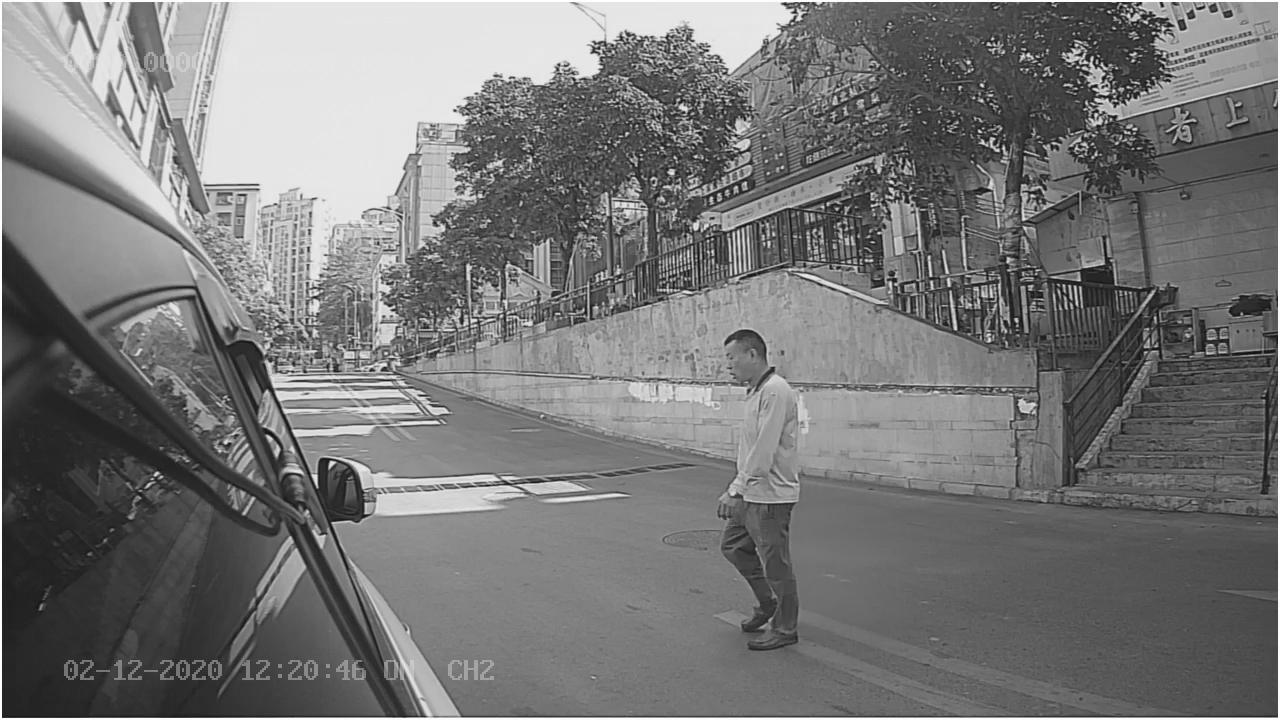person: (700, 321, 802, 650)
